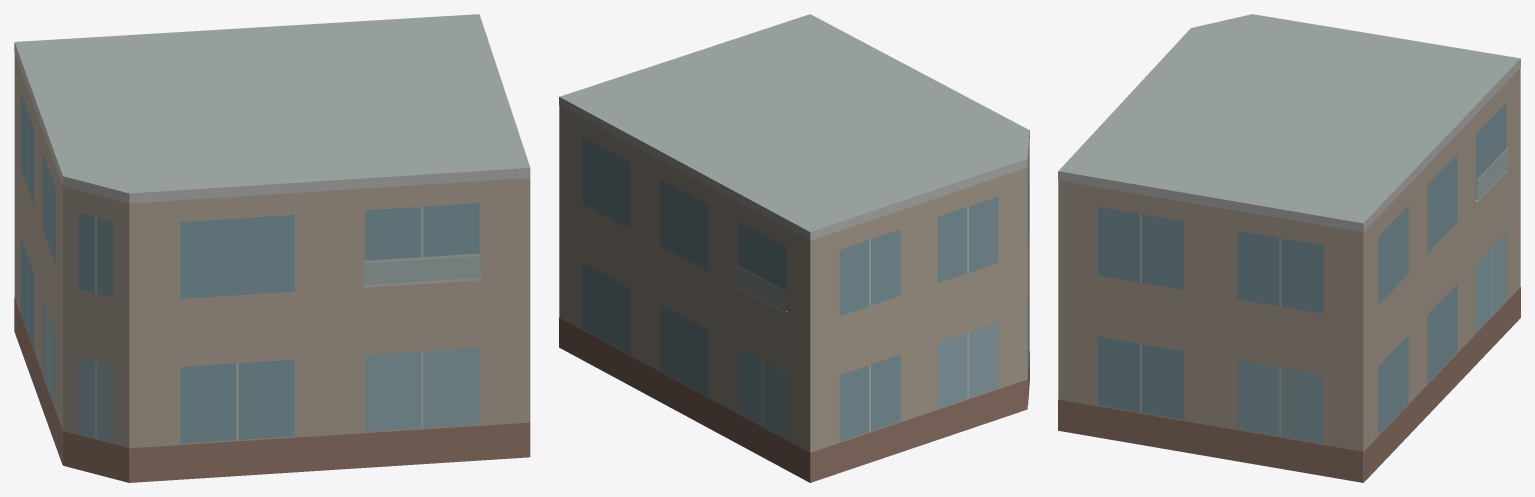
File: survey-upis-32803685.glb
3 views of the same model, side by side, from view 1: azimuth 30°, elevation 25°; view 2: azimuth 150°, elevation 25°; view 3: azimuth 270°, elevation 25° (orthographic). The views are drawn at different scales.
Visible parts, largest first — view 1: survey-upis-32803685.tmp; view 2: survey-upis-32803685.tmp; view 3: survey-upis-32803685.tmp.
Part boxes in pixels (x1,y1,x2,y2): survey-upis-32803685.tmp: [14, 14, 530, 482]; survey-upis-32803685.tmp: [559, 14, 1029, 482]; survey-upis-32803685.tmp: [1058, 14, 1520, 482].
Size of the model in its own units: 12.12 by 7 by 11.32.
